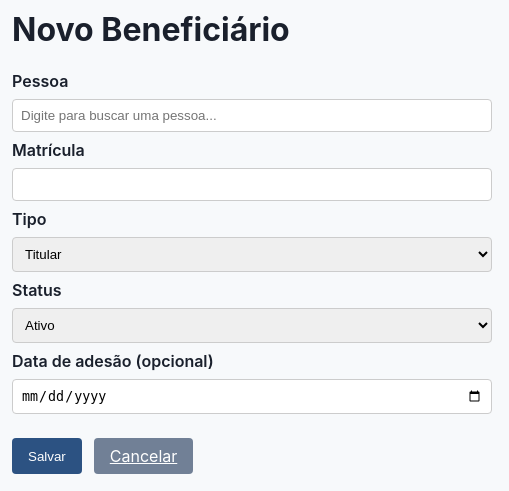
Test: BeneficiarioFormView › selecting a Pessoa sets the form value and shows the selected name
In the field with placeholder "Digite para buscar uma pessoa...": (252, 115) x1=12 y1=99 x2=492 y2=132, type "ful"
Wait 300 ms
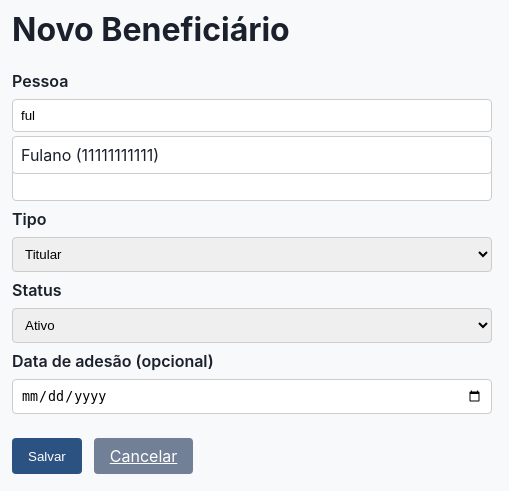
Press the mouse on the list item with class "searchable-select__option": (90, 155) x1=21 y1=145 x2=159 y2=165
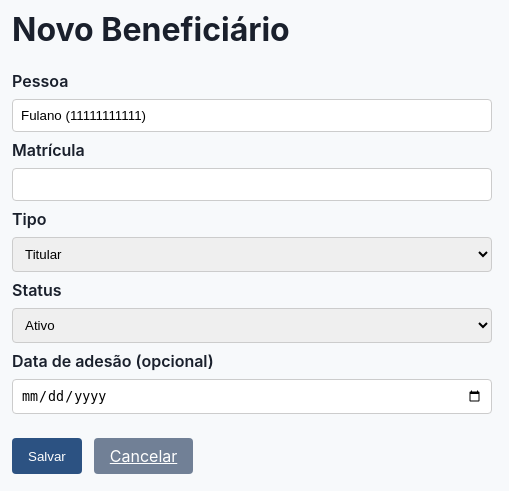
Check: the 1st field holds "Fulano (11111111111)", box x1=12 y1=99 x2=492 y2=132
